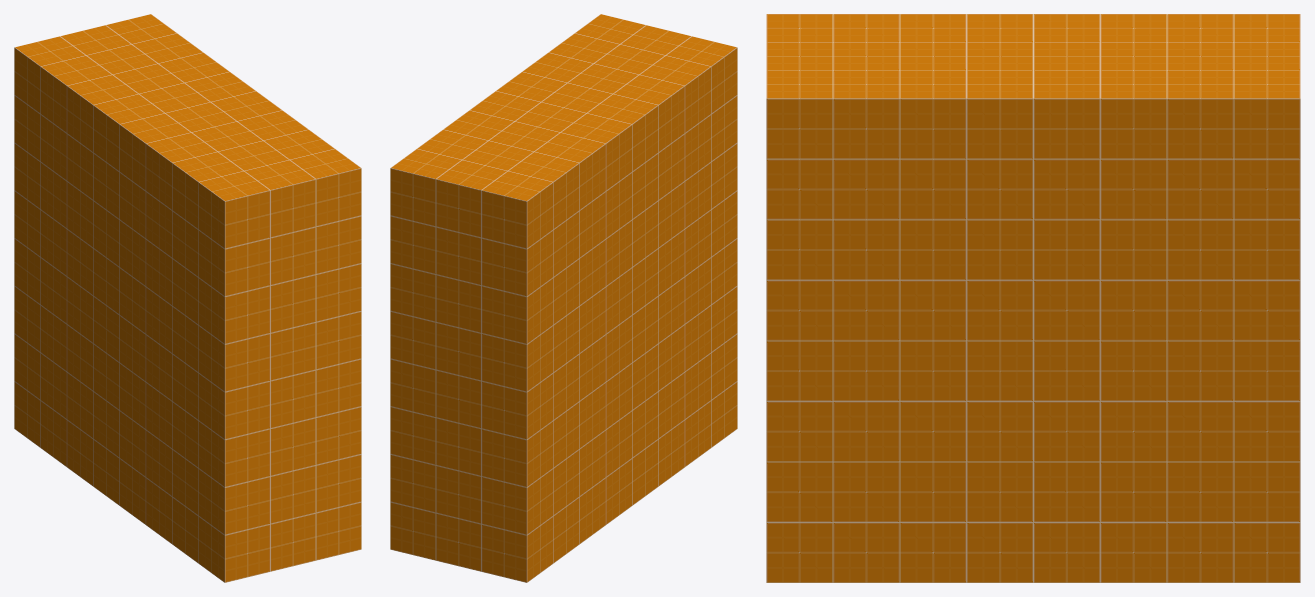
File: Block_3x8x8.obj
3 renders of one model, left to right at view 1: azimuth 30°, elevation 25°; view 2: azimuth 150°, elevation 25°; view 3: azimuth 270°, elevation 25°, orthographic. The views are drawn at different scales.
Visible parts, largest first — view 1: Block_3x8x8_Cube.187; view 2: Block_3x8x8_Cube.187; view 3: Block_3x8x8_Cube.187.
Part boxes in pixels (x1,y1,x2,y2): Block_3x8x8_Cube.187: (14,14,361,582); Block_3x8x8_Cube.187: (390,14,737,582); Block_3x8x8_Cube.187: (766,14,1300,582).
Bounding box in the file's own units: 3 × 8 × 8.
1 material, 1 textured.
